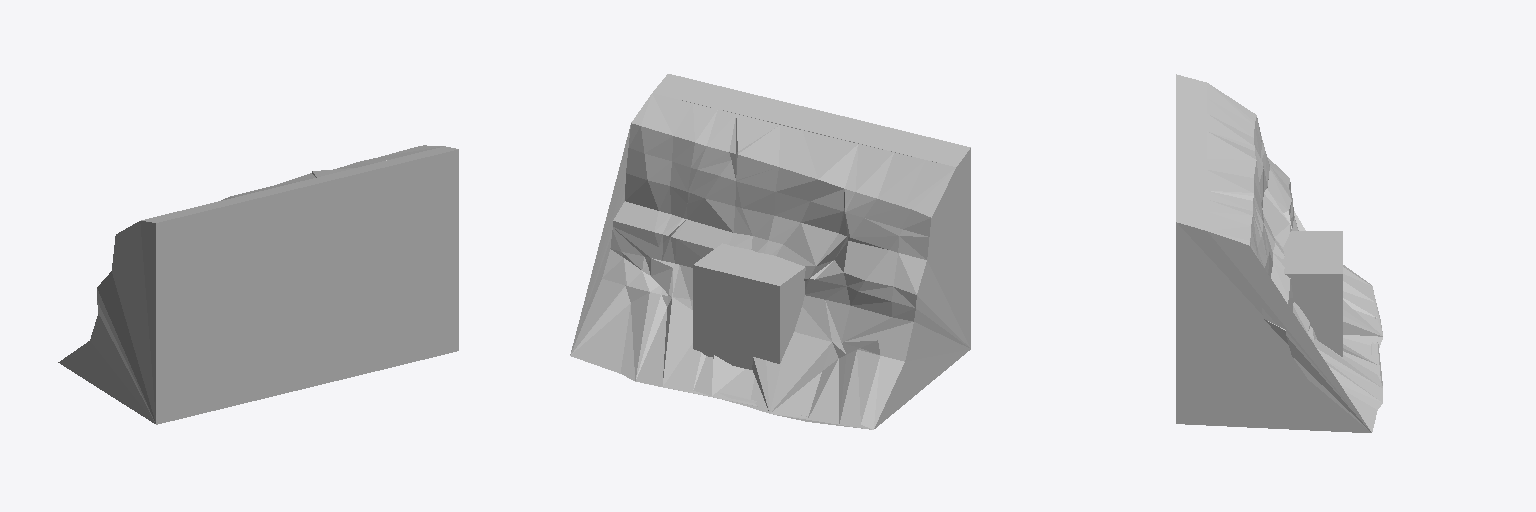
The model's file is wall.obj.
The picture shows the model from 3 angles: view 1: azimuth 30°, elevation 25°; view 2: azimuth 150°, elevation 25°; view 3: azimuth 270°, elevation 25°; orthographic projection.
Visible parts, largest first — view 1: Cube_Cube.002; view 2: Cube_Cube.002, Cube.001_Cube.003; view 3: Cube_Cube.002, Cube.001_Cube.003.
Boxes of the visible parts, x1,y1,x2,y2 form: Cube_Cube.002: [58, 145, 458, 424]; Cube_Cube.002: [570, 74, 970, 429]; Cube.001_Cube.003: [693, 243, 805, 369]; Cube_Cube.002: [1176, 74, 1382, 432]; Cube.001_Cube.003: [1283, 231, 1342, 356].
Bounding box in the file's own units: 7.09 × 4.74 × 4.13.